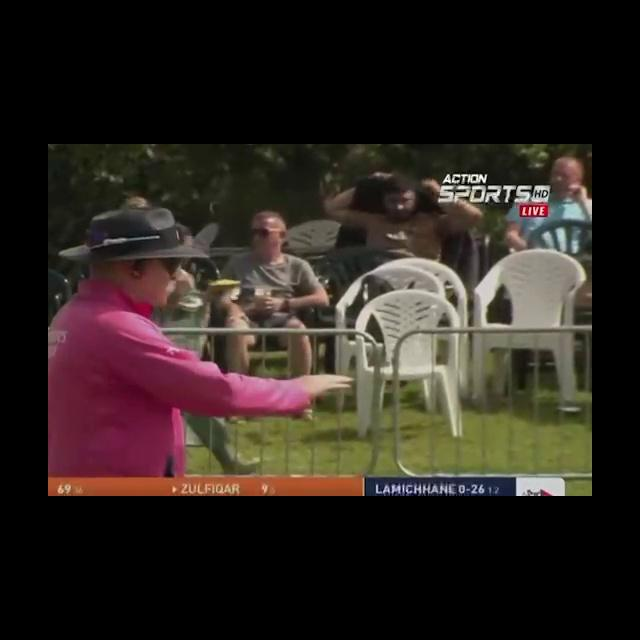umpire: (48, 178, 430, 426)
